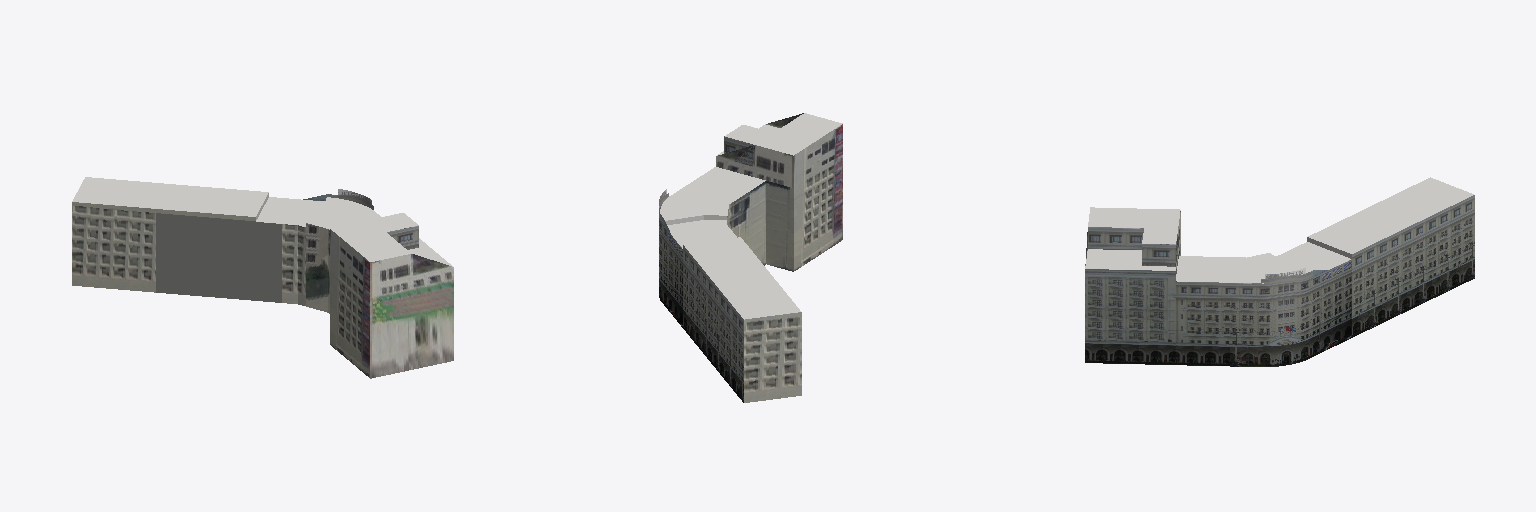
The picture shows the model from 3 angles: view 1: azimuth 30°, elevation 25°; view 2: azimuth 150°, elevation 25°; view 3: azimuth 270°, elevation 25°; orthographic projection.
Parts seen in each view (by area): view 1: Mesh1 Majestic1 Model; view 2: Mesh1 Majestic1 Model; view 3: Mesh1 Majestic1 Model.
Boxes of the visible parts, x1=… form: Mesh1 Majestic1 Model: x1=72, y1=177, x2=453, y2=378; Mesh1 Majestic1 Model: x1=659, y1=113, x2=842, y2=402; Mesh1 Majestic1 Model: x1=1085, y1=177, x2=1474, y2=366.
Size of the model in its own units: 68.43 by 34.95 by 106.
77 materials, 73 textured.